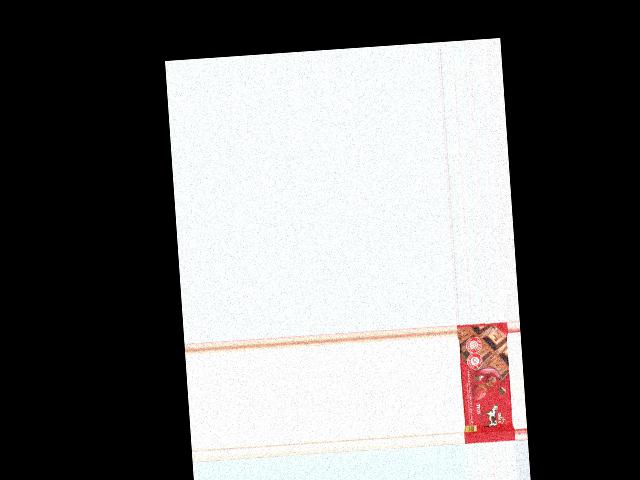chocolate: (456, 322, 515, 444)
